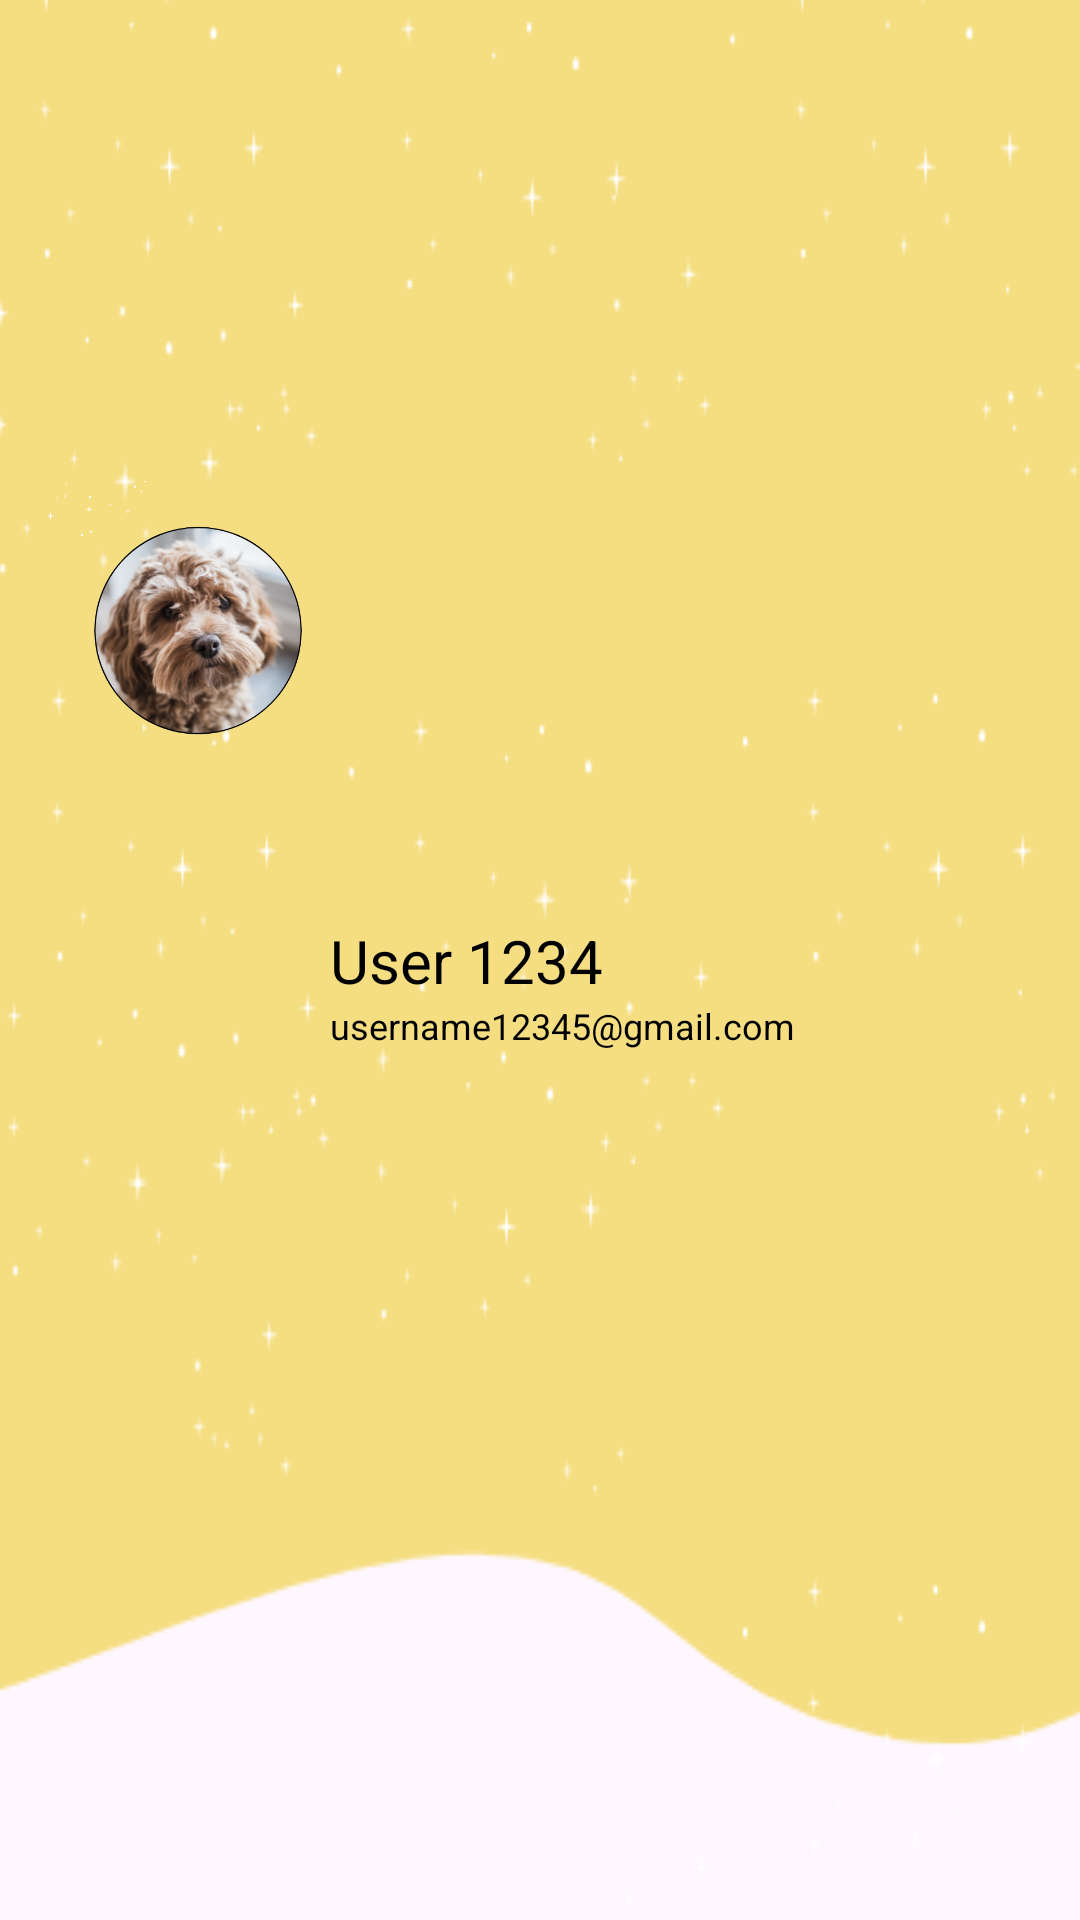

Icons on this 1080w x 1920h Android screen, each with its box as (x1, y1, x2, y2):
user profile picture: (48, 467, 302, 746)
